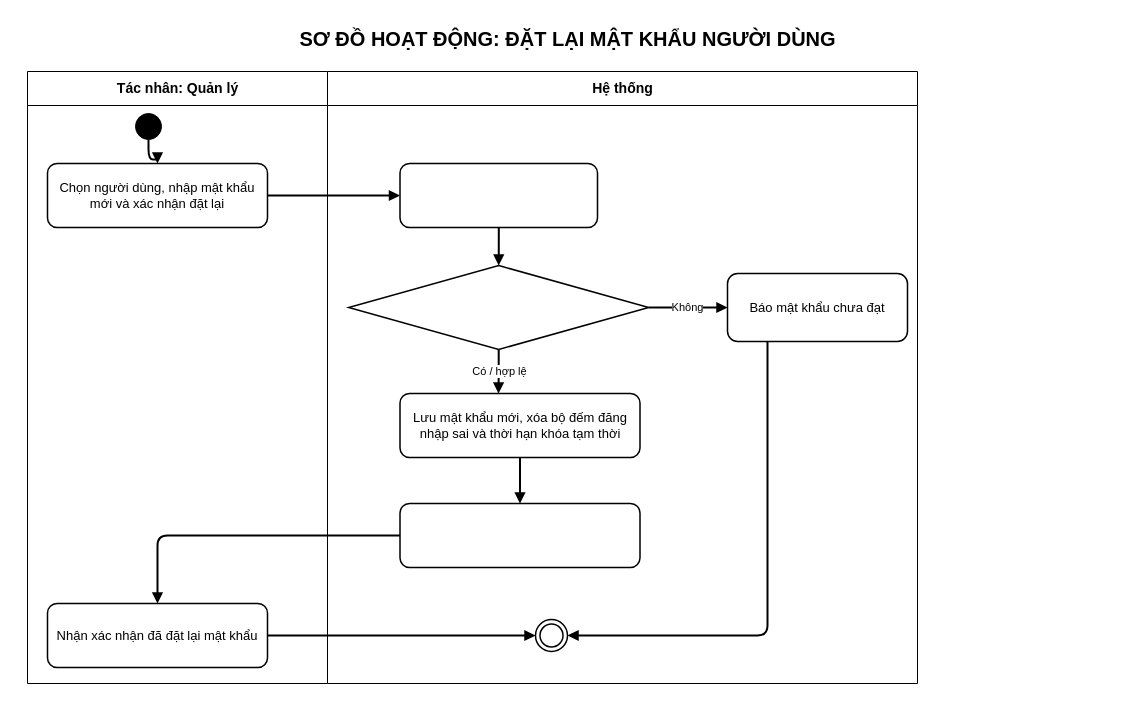
The diagram is 1134 pixels wide and 701 high, and some of its shapes have lost their labels. Here are the shapes that lost their labels. From the top down, the centre of each, then its label:
At (x=498, y=195): "Kiểm tra thông tin đầu vào".
At (x=498, y=307): "Mật khẩu mới có ít nhất 8 ký tự?".
At (x=519, y=535): "Ghi log sự kiện".
